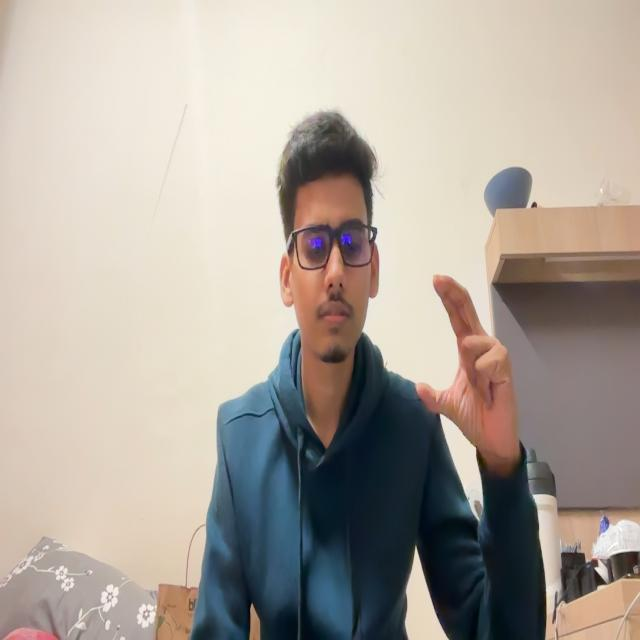No: (408, 254, 522, 464)
